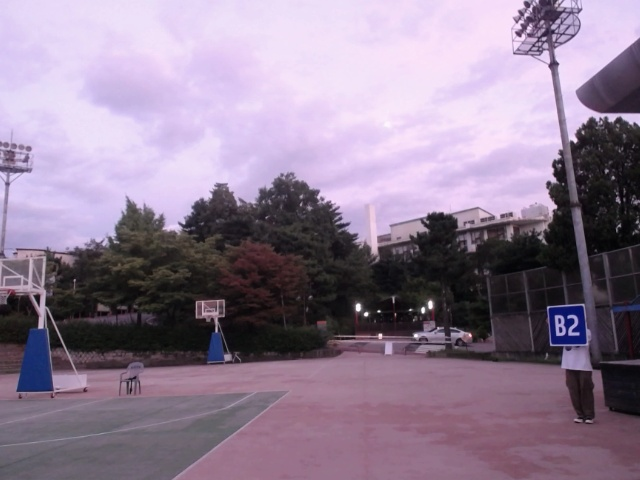delivery_b2: (547, 305, 587, 348)
